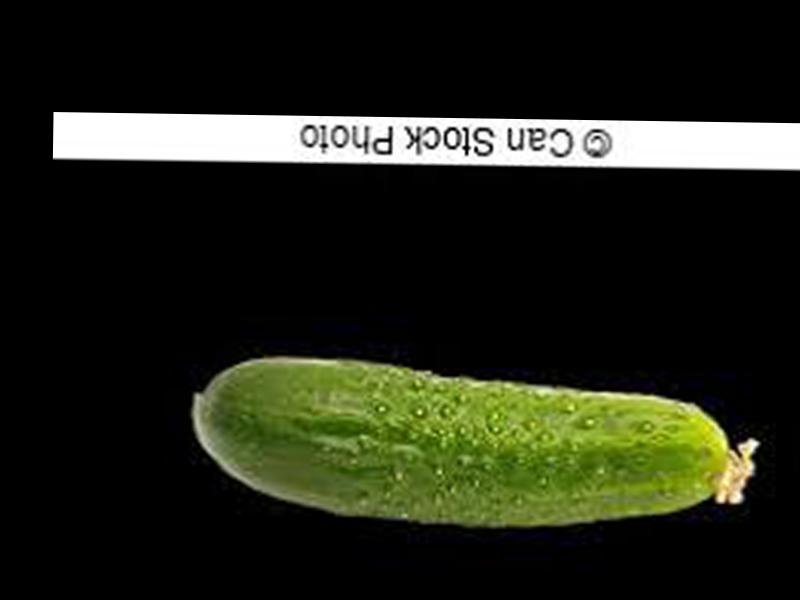Cucumber: (190, 357, 760, 531)
